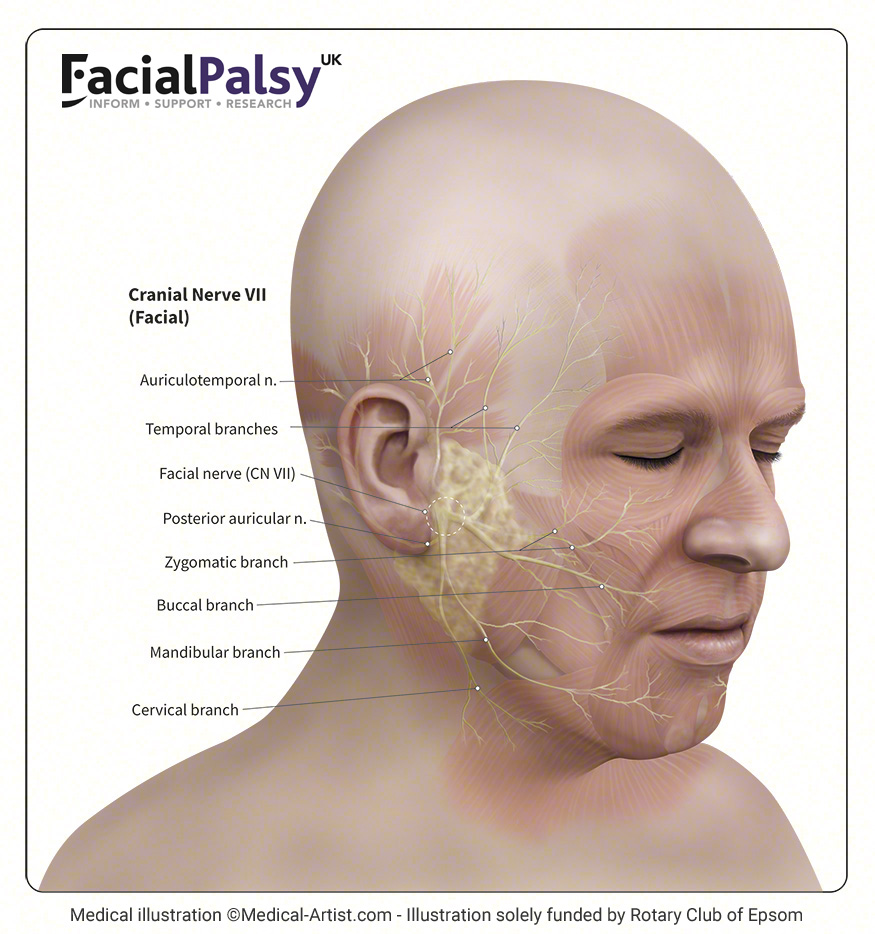stroke: (431, 259, 809, 759)
